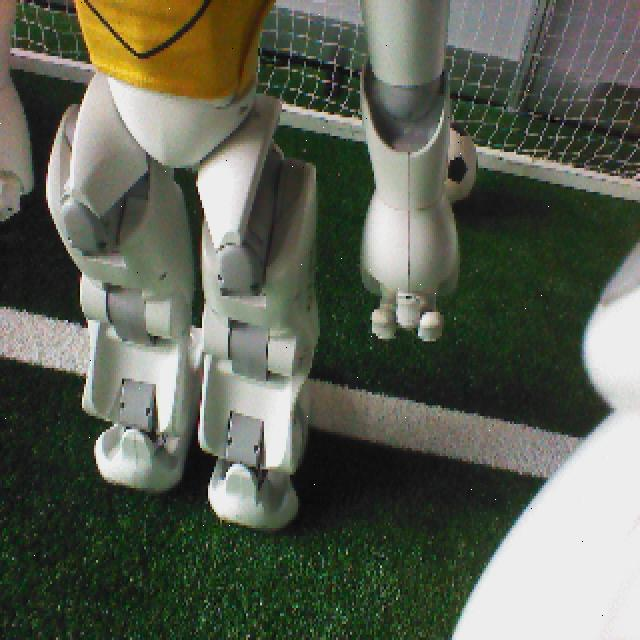ball: (414, 117, 480, 208)
